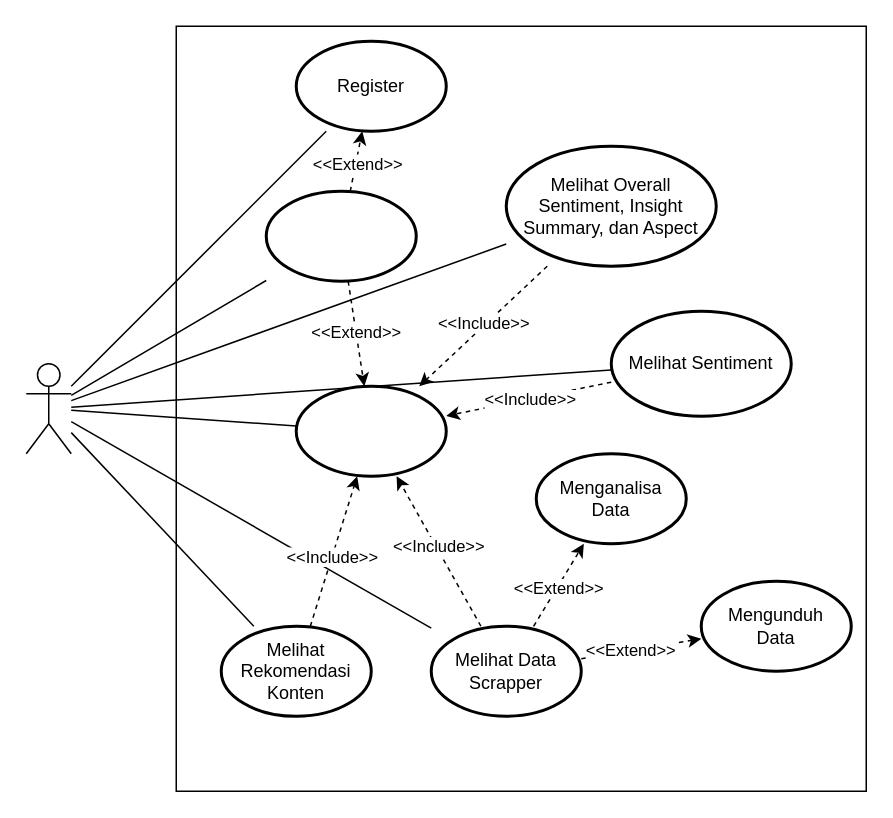
This 893x818 diagram has some shape labels left out. Each missing label, with the centre of its shape:
"Akses Landing Page" goes at [340,235].
"Login" goes at [370,430].
"User" goes at [48,408].
